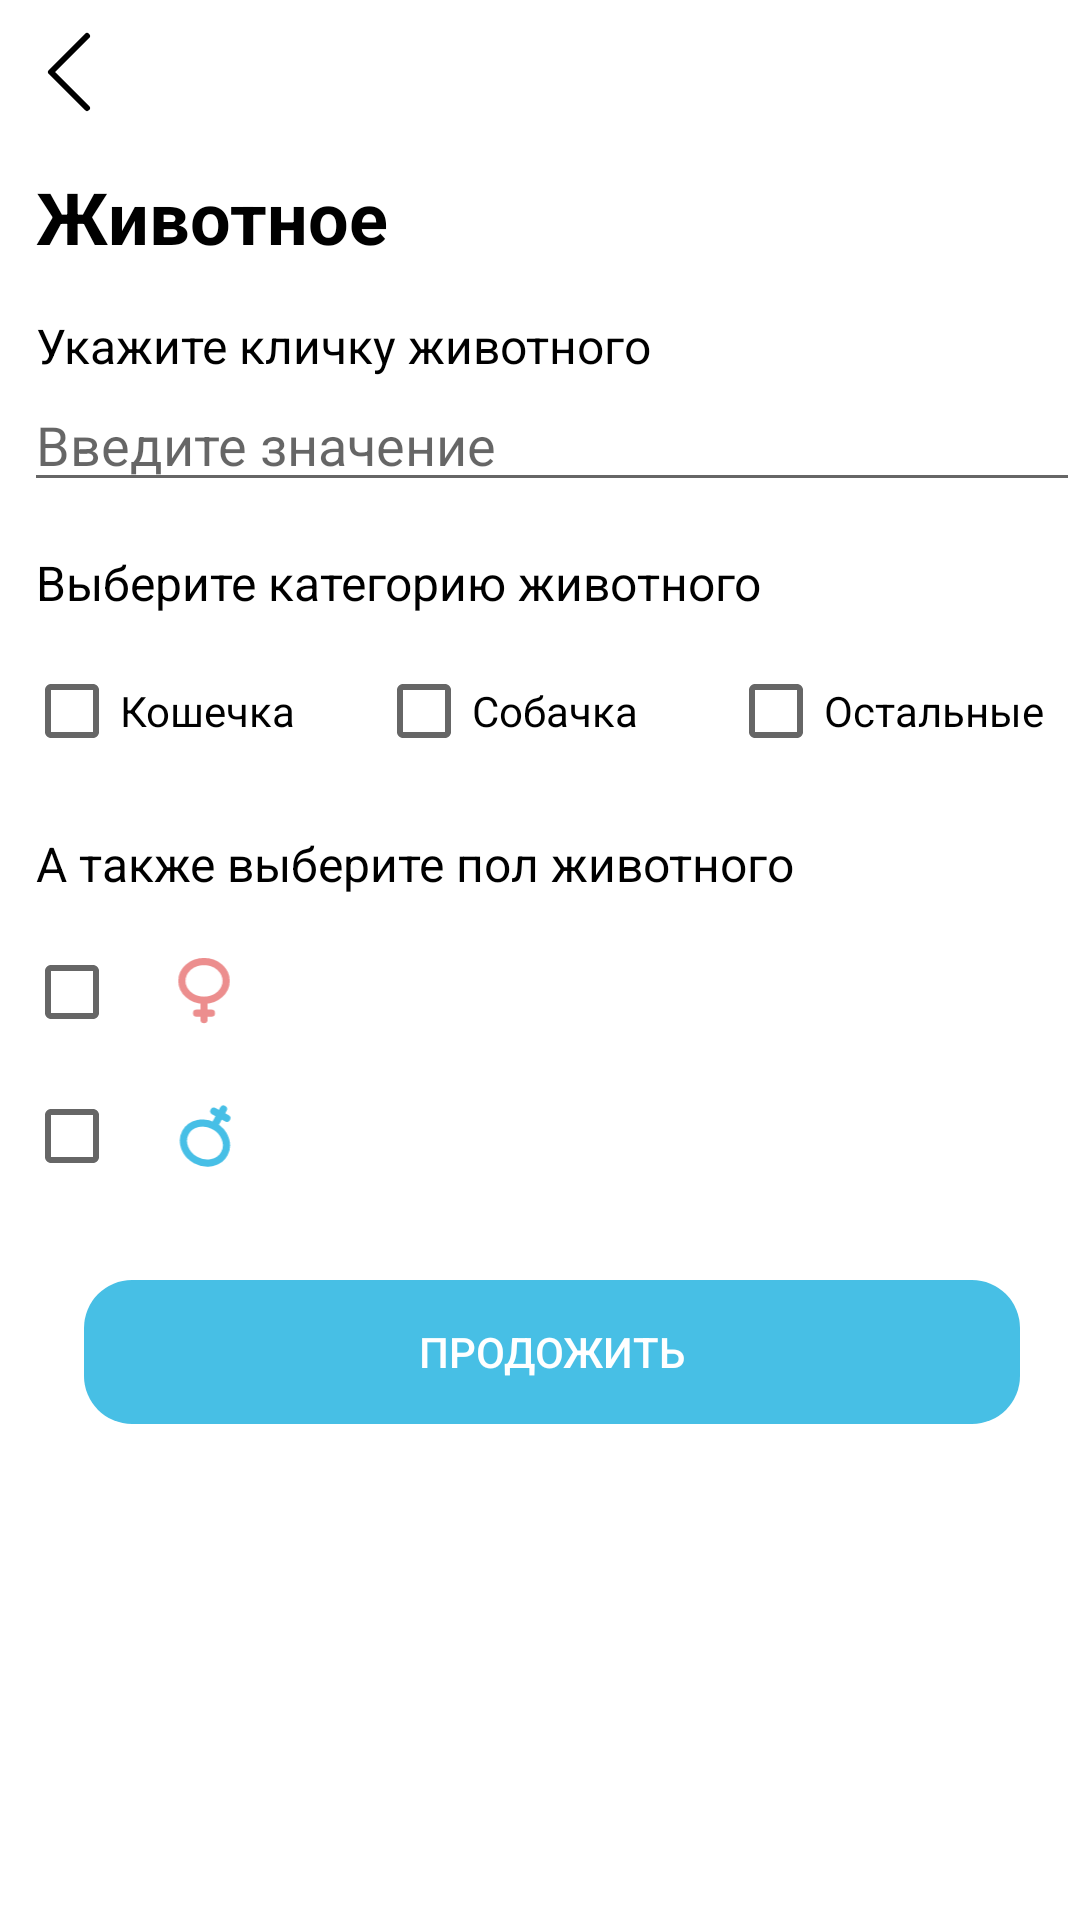

Screen size 1080px x 1920px. Icon name, then its box in pixels as [x1, y1, x2, y2]:
back arrow: [48, 32, 90, 111]
pol girl: [178, 958, 230, 1023]
